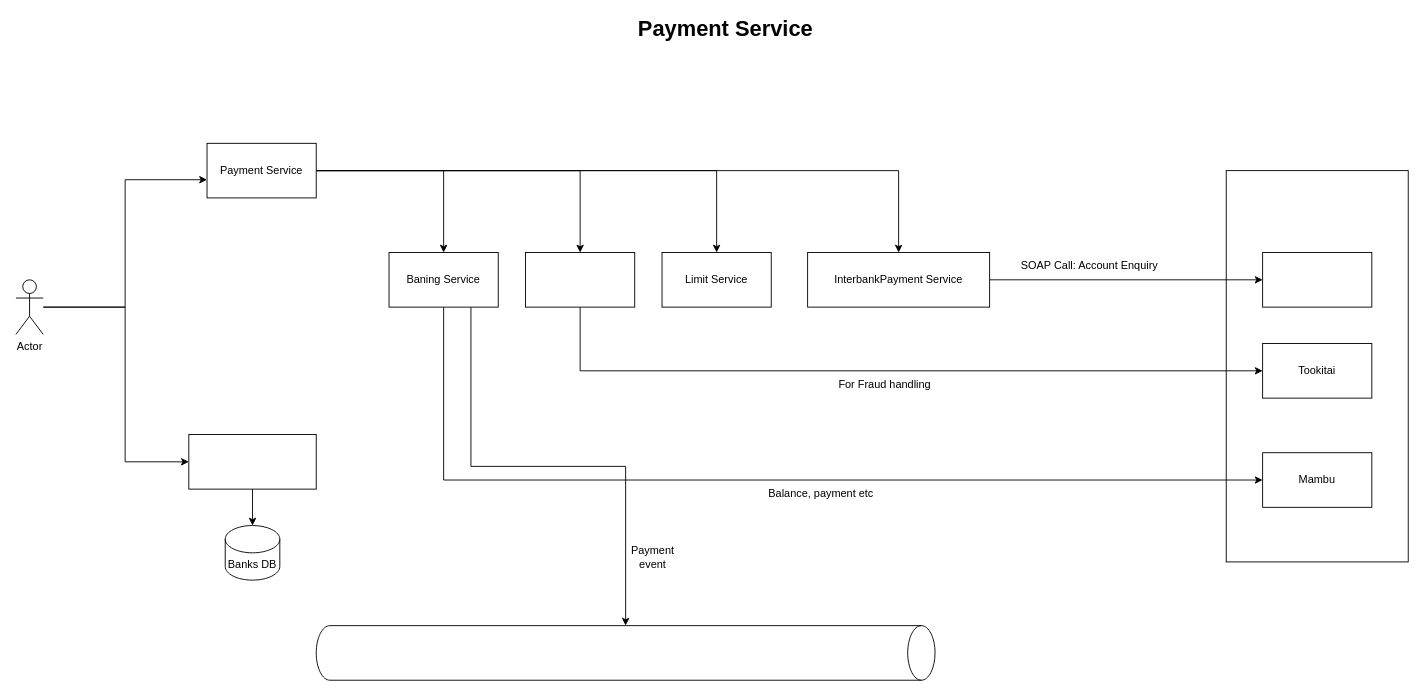
This 1424x696 diagram has some shape labels left out. The box of each missing label's shape, as (x1, y1, x2, y2) in pixels:
BankInformationServiec: (188, 434, 316, 489)
Finexus: (1262, 252, 1372, 307)
FRAML Service: (525, 252, 635, 307)
Partner Systems: (1225, 170, 1408, 562)
